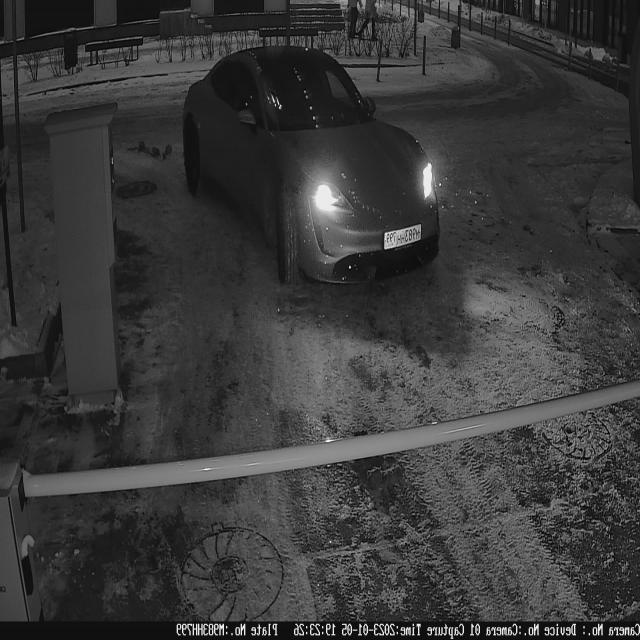car-plate-numbers: (383, 223, 426, 254)
